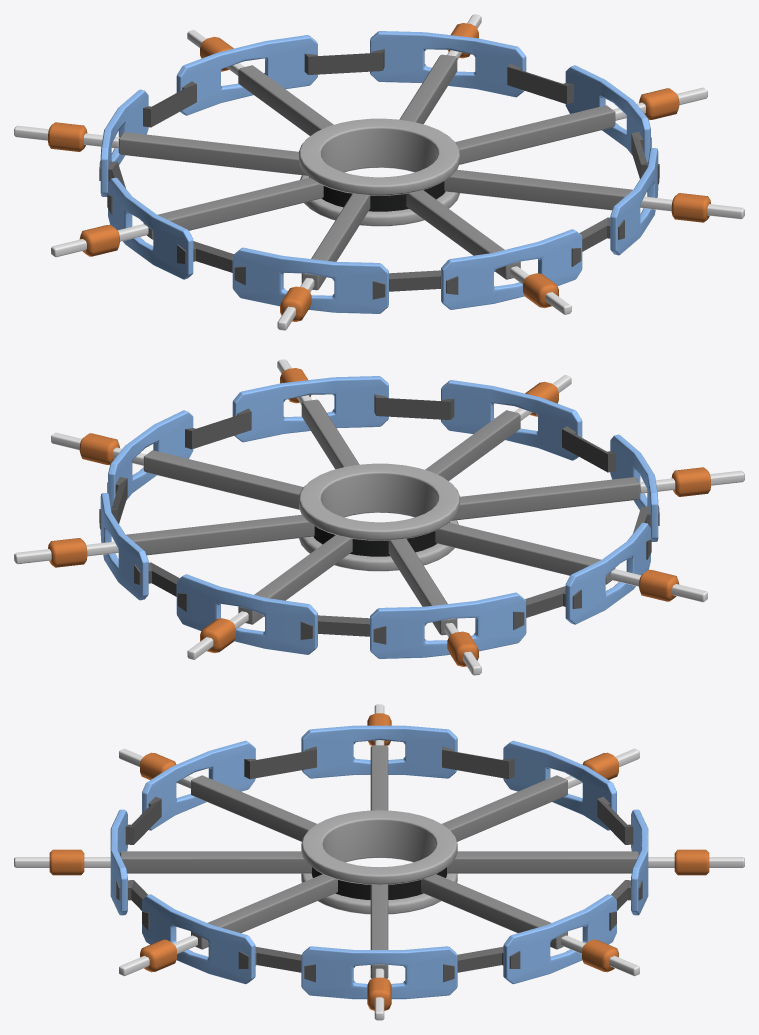
The model's file is halo_003.fbx.
3 renders of one model, top to bottom at view 1: azimuth 30°, elevation 25°; view 2: azimuth 150°, elevation 25°; view 3: azimuth 270°, elevation 25°, orthographic. The views are drawn at different scales.
Parts seen in each view (by area): view 1: halo_003; view 2: halo_003; view 3: halo_003.
Part boxes in pixels (left/top/right/bottom): halo_003: left=14, top=14, right=744, bottom=330; halo_003: left=14, top=359, right=744, bottom=675; halo_003: left=14, top=704, right=744, bottom=1020.
Bounding box in the file's own units: 9127 × 9127 × 653.
